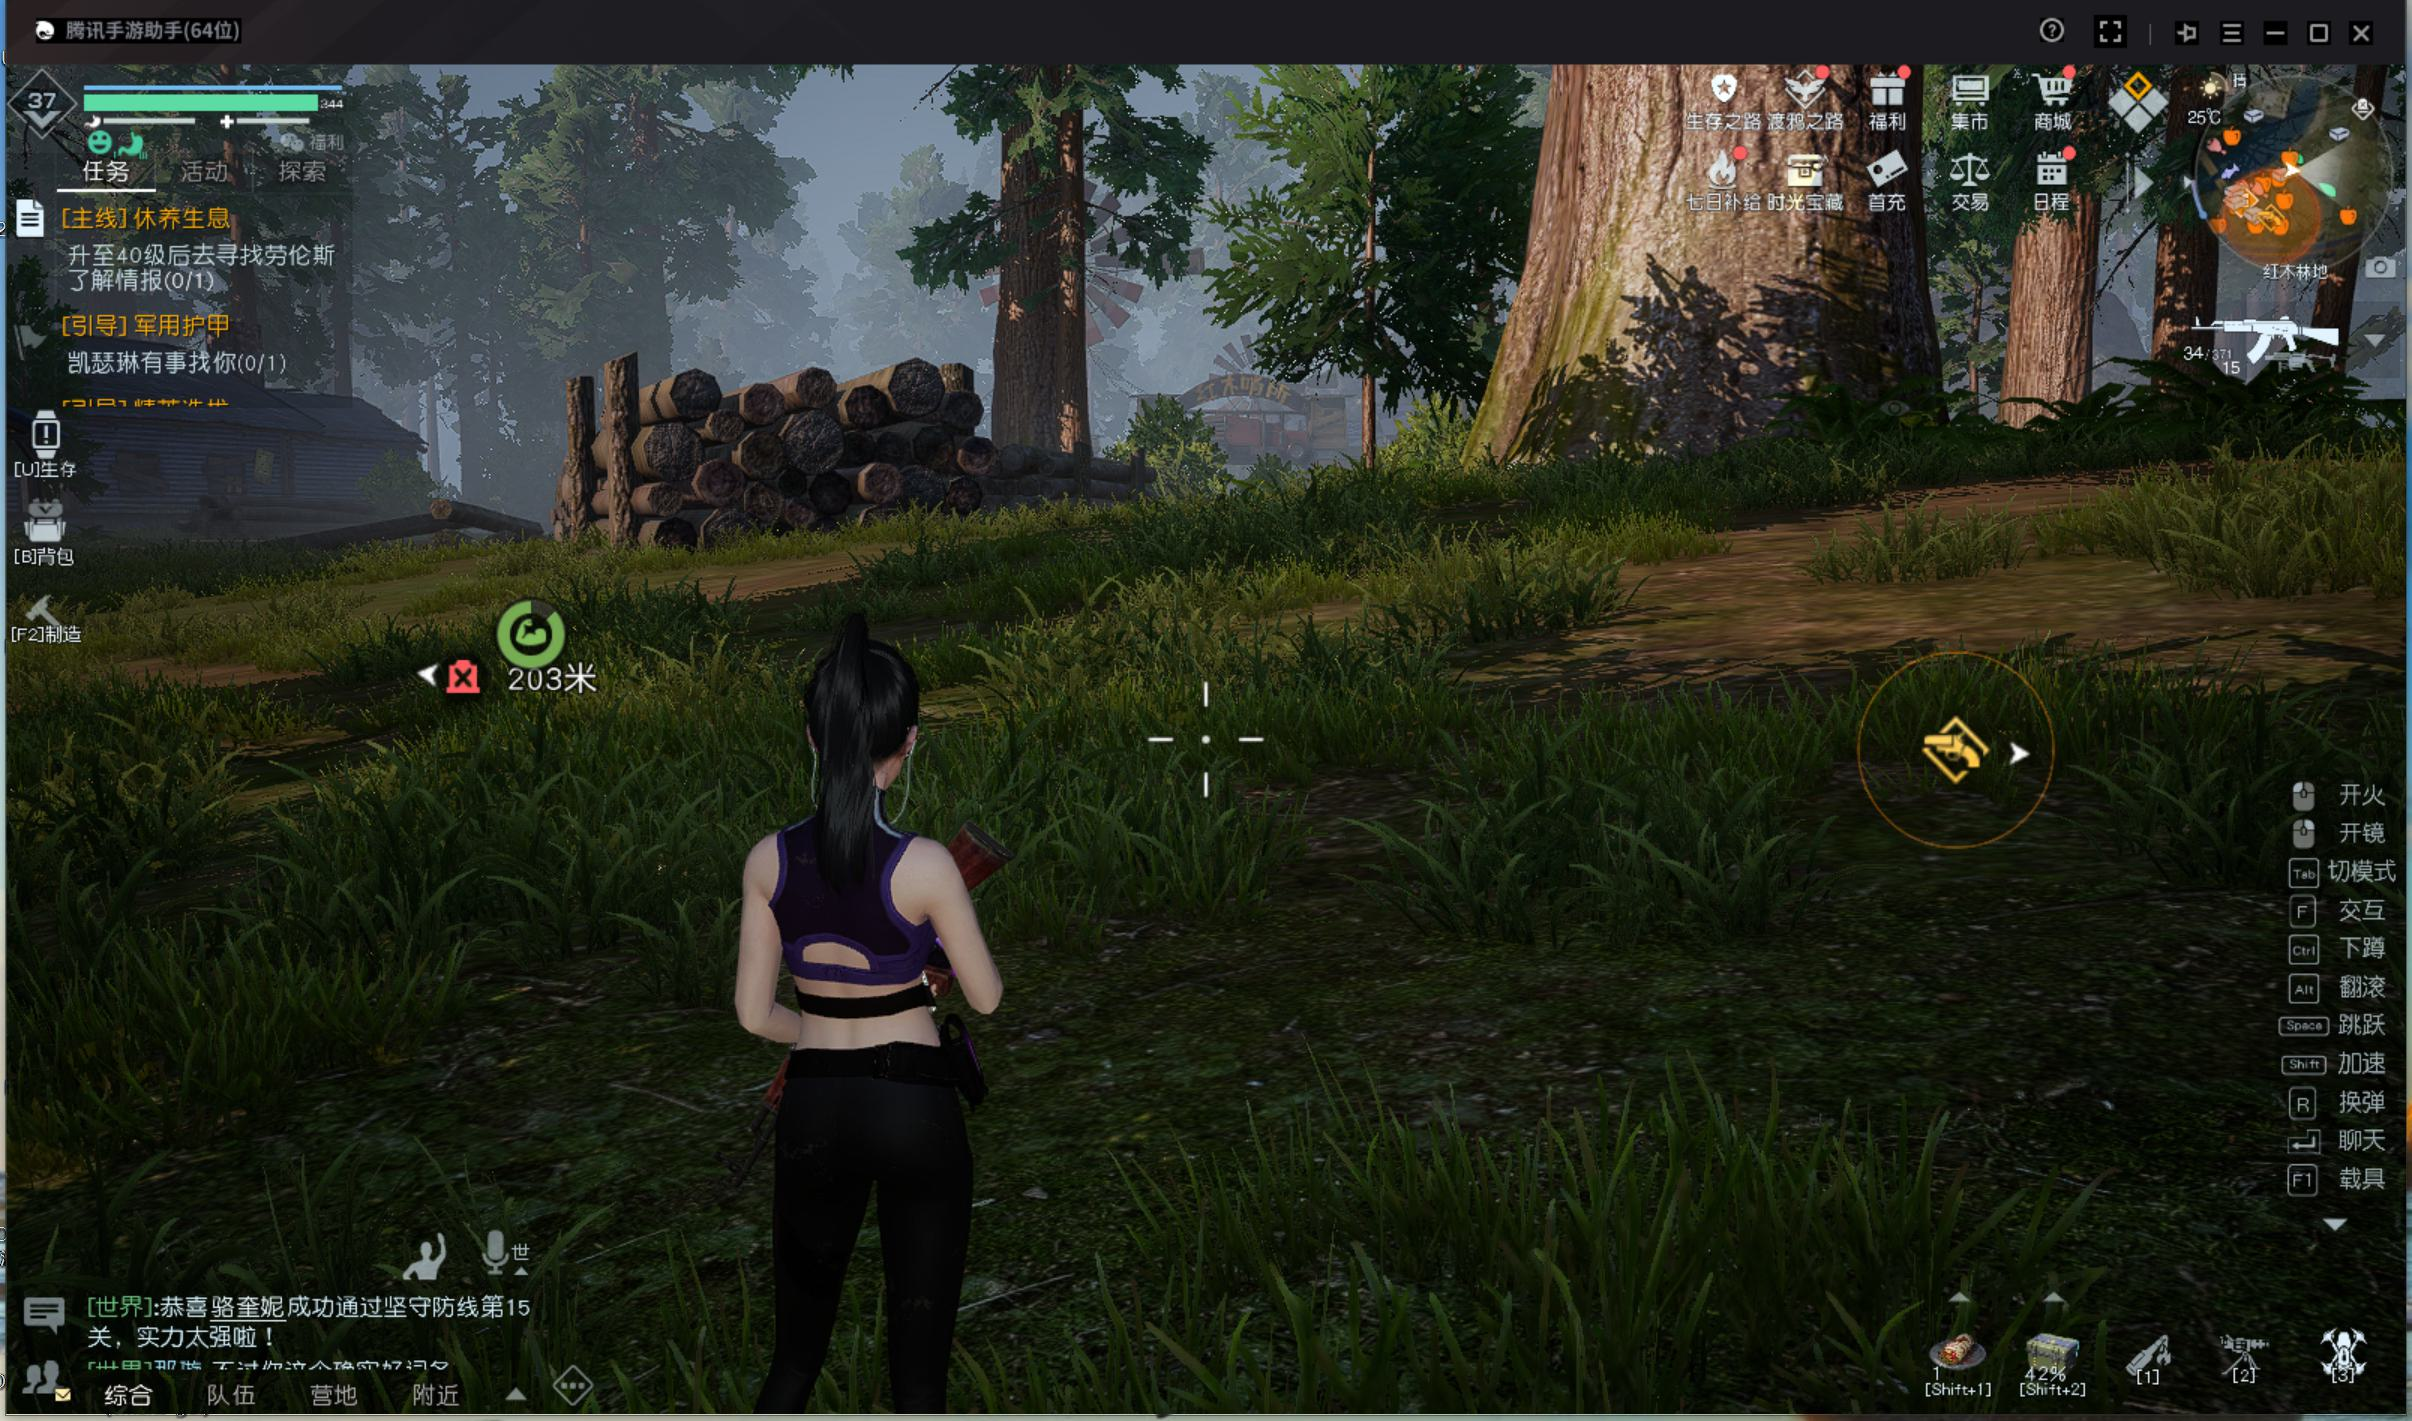tree: (1987, 233, 2091, 480), (1044, 179, 1120, 484), (2128, 249, 2228, 457)
